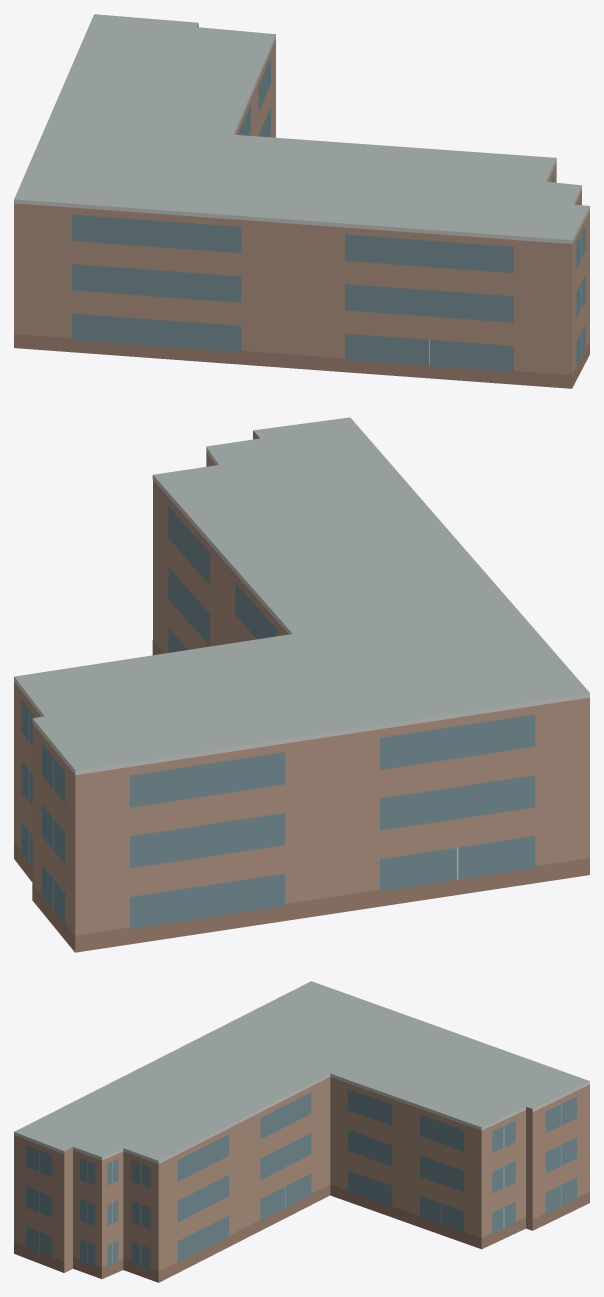
The model's file is survey-upis-32994574.glb.
The picture shows the model from 3 angles, top to bottom: view 1: azimuth 30°, elevation 25°; view 2: azimuth 150°, elevation 25°; view 3: azimuth 270°, elevation 25°; orthographic projection. The views are drawn at different scales.
Visible parts, largest first — view 1: survey-upis-32994574.tmp; view 2: survey-upis-32994574.tmp; view 3: survey-upis-32994574.tmp.
Boxes of the visible parts, bbox=[...] form: survey-upis-32994574.tmp: bbox=[14, 14, 589, 388]; survey-upis-32994574.tmp: bbox=[14, 417, 589, 952]; survey-upis-32994574.tmp: bbox=[14, 981, 589, 1282].
Bounding box in the file's own units: 28.97 × 9.15 × 39.19.
